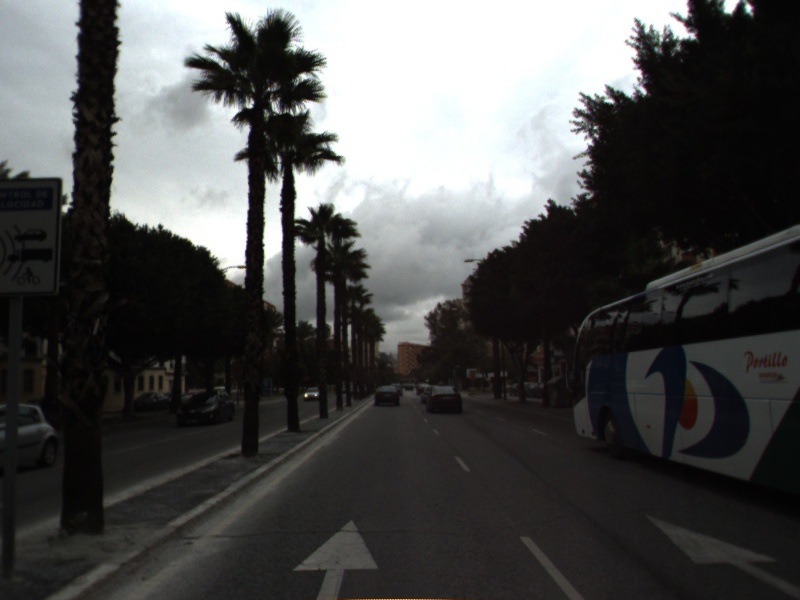STRAIGHT: (640, 511, 800, 600), (290, 517, 382, 600)
